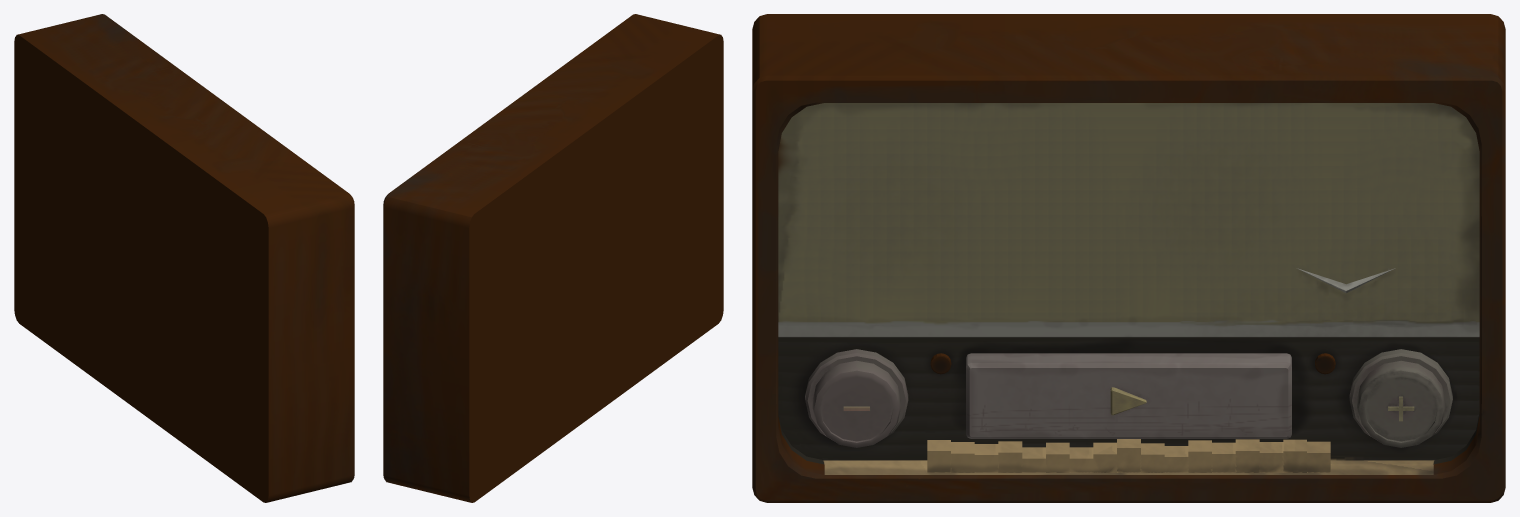
The model's file is Radio.glb.
The picture shows the model from 3 angles, left to right: view 1: azimuth 30°, elevation 25°; view 2: azimuth 150°, elevation 25°; view 3: azimuth 270°, elevation 25°; orthographic projection. The views are drawn at different scales.
Parts seen in each view (by area): view 1: Radio; view 2: Radio; view 3: Radio, PlayButton, IncButton, DecButton.
Part boxes in pixels (left/top/right/bottom): Radio: left=14, top=14, right=354, bottom=502; Radio: left=383, top=14, right=723, bottom=502; Radio: left=752, top=14, right=1505, bottom=502; PlayButton: left=966, top=353, right=1291, bottom=438; IncButton: left=1349, top=349, right=1452, bottom=447; DecButton: left=805, top=349, right=908, bottom=447.
Size of the model in its own units: 0.2739 by 0.8659 by 1.38.
Materials: 1 (1 with a texture image).
